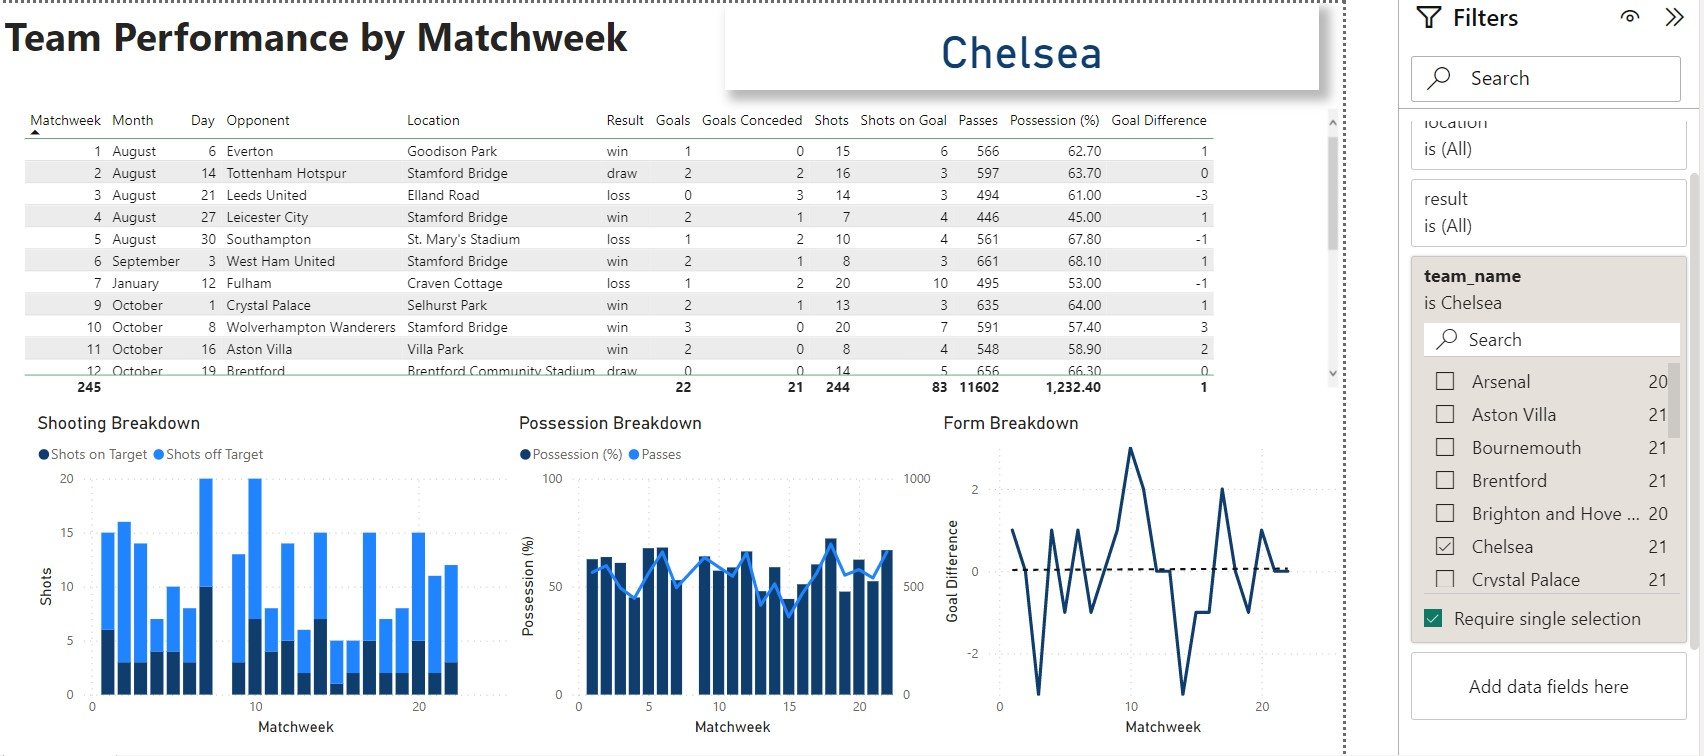

The dashboard page shown, as its layout file describes it:
{"tool":"powerbi","page":{"name":"Page 1","canvas":[1280,720],"ordinal":0},"visuals":[{"type":"columnChart","title":"Shooting Breakdown","fields":{"Category":["epl_2022_2023 team_performance.matchweek"],"Y":["Sum(epl_2022_2023 team_performance.shots_on_target)","epl_2022_2023 team_performance.shots minus shots_on_target"]},"box":[31.4,390,458.6,311.4],"z":0},{"type":"textbox","box":[0,0,621.4,95.7],"z":1},{"type":"lineStackedColumnComboChart","title":"Possession Breakdown","fields":{"Category":["epl_2022_2023 team_performance.matchweek"],"Y":["Sum(epl_2022_2023 team_performance.possession)"],"Y2":["Sum(epl_2022_2023 team_performance.passes)"]},"box":[490,390,422.9,311.4],"z":2},{"type":"tableEx","fields":{"Values":["Sum(epl_2022_2023 team_performance.matchweek)","epl_2022_2023 team_performance.date_played.Variation.Date Hierarchy.Month","epl_2022_2023 team_performance.date_played.Variation.Date Hierarchy.Day","epl_2022_2023 team_performance.opponent_name","epl_2022_2023 team_performance.location","epl_2022_2023 team_performance.result","Sum(epl_2022_2023 team_performance.score)","Sum(epl_2022_2023 team_performance.opponent_score)","Sum(epl_2022_2023 team_performance.shots)","Sum(epl_2022_2023 team_performance.shots_on_target)","Sum(epl_2022_2023 team_performance.passes)","Sum(epl_2022_2023 team_performance.possession)"]},"box":[18.6,95.7,1261.4,284.3],"z":3},{"type":"lineChart","title":"Form Breakdown","fields":{"Category":["epl_2022_2023 team_performance.matchweek"],"Y":["epl_2022_2023 team_performance.score minus opponent_score"]},"box":[894.3,390,385.7,311.4],"z":4},{"type":"card","fields":{"Values":["epl_2022_2023 team_performance.SelectedTeam"]},"box":[691.4,0,565.7,82.9],"z":5}]}

Visuals, with their boxes on the page's 1280x720 design canvas (x1, y1, x2, y2). These are canvas units, not pixel positions in the 1704x756 screenshot, which may show the page scaled, cropped or inside an application window:
"Shooting Breakdown" columnChart: bbox=[31, 390, 490, 701]
textbox: bbox=[0, 0, 621, 96]
"Possession Breakdown" lineStackedColumnComboChart: bbox=[490, 390, 913, 701]
tableEx - Sum(epl_2022_2023 team_performance.matchweek) x epl_2022_2023 team_performance.date_played.Variation.Date Hierarchy.Month: bbox=[19, 96, 1280, 380]
"Form Breakdown" lineChart: bbox=[894, 390, 1280, 701]
card - epl_2022_2023 team_performance.SelectedTeam: bbox=[691, 0, 1257, 83]
